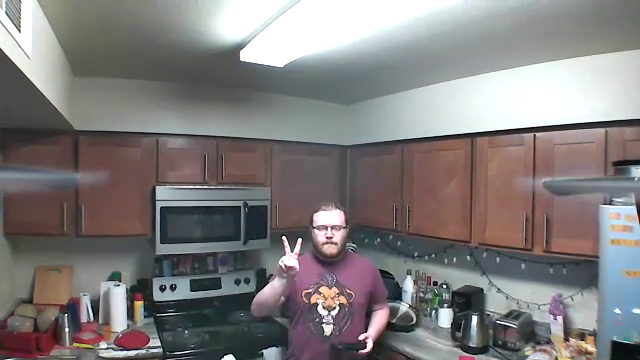peace: (275, 230, 304, 281)
